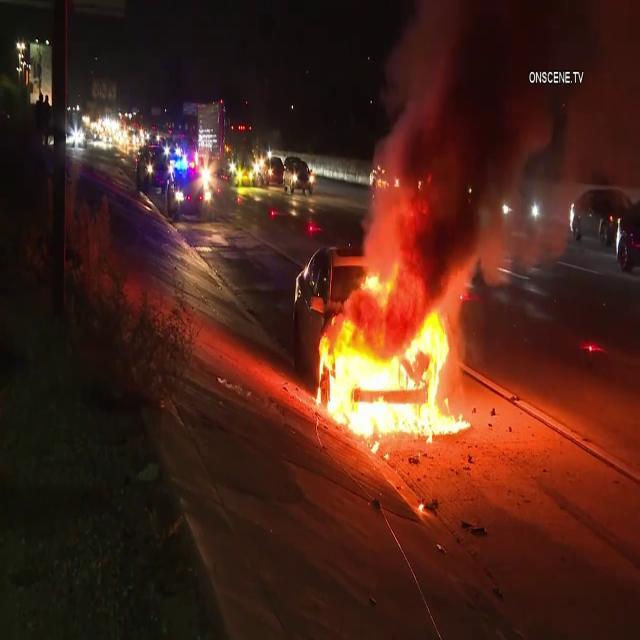Fire: (313, 291, 468, 434)
Smoke: (354, 0, 624, 272)
